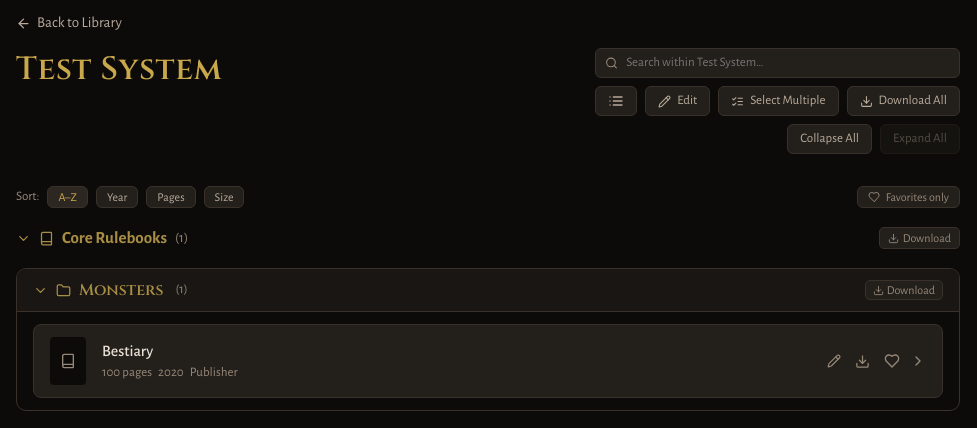
Test: SystemDetailView — subfolder grouping › getBookSubfolder logic (via render) › subfolder collapse toggles visibility
Expected: the text "Bestiary" is shown, [102, 342, 153, 358]
# Collapse the folder
Click the button "Monsters (1)" at (121, 290), box [33, 279, 855, 301]
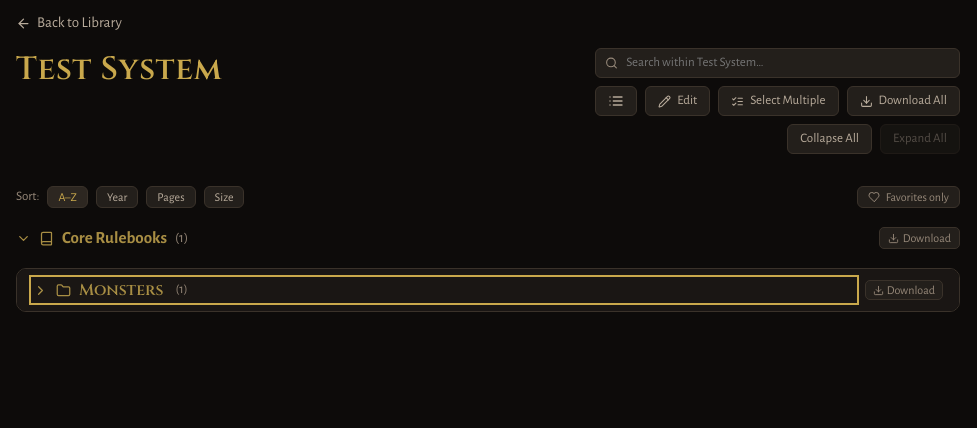
Expected: the button "Bestiary" is gone
# Expand again
Click the button "Monsters (1)" at (121, 290), box [33, 279, 855, 301]
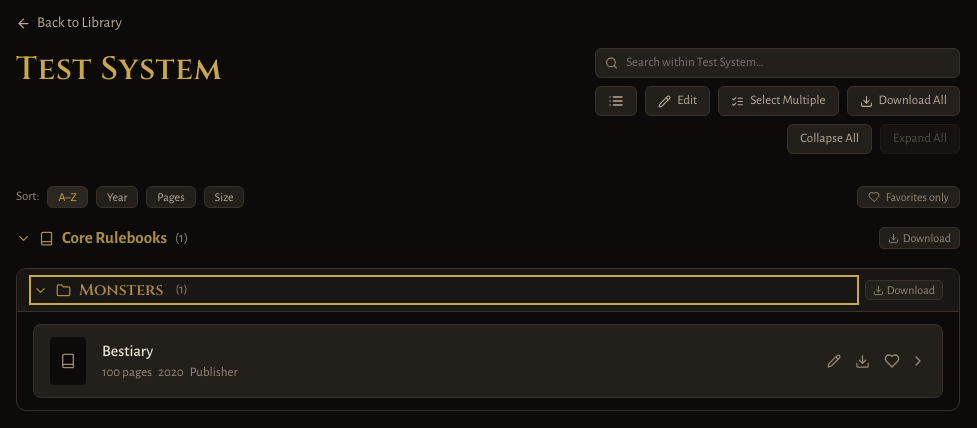
Expected: the text "Bestiary" is shown, [102, 342, 153, 358]
